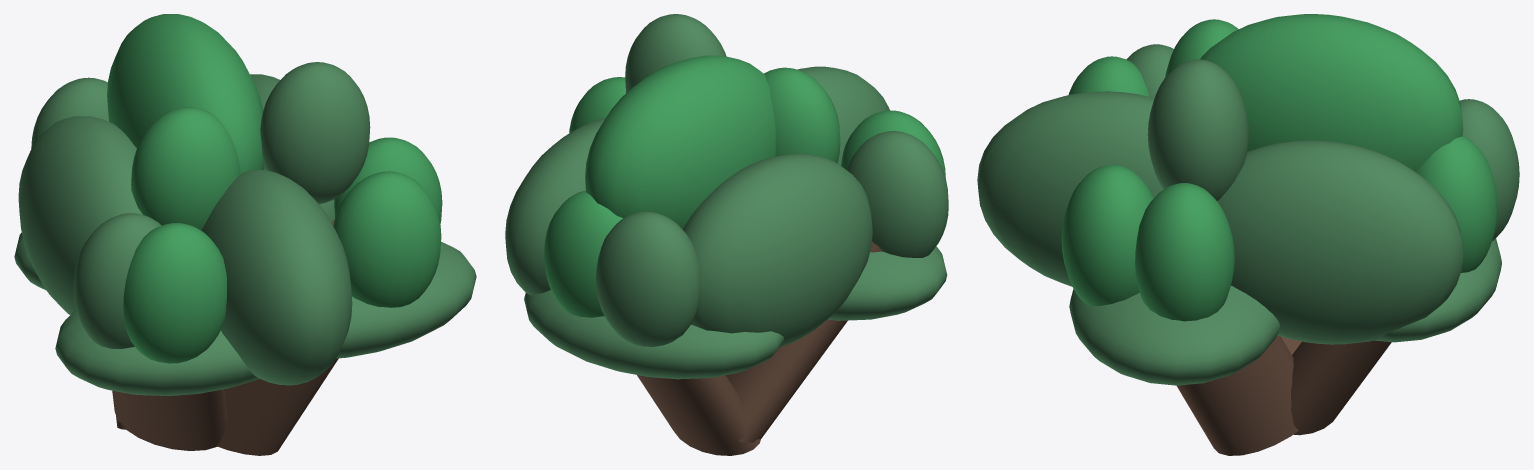
File: Bush 1 colored.fbx
The picture shows the model from 3 angles, left to right: view 1: azimuth 30°, elevation 25°; view 2: azimuth 150°, elevation 25°; view 3: azimuth 270°, elevation 25°; orthographic projection. The views are drawn at different scales.
Parts seen in each view (by area): view 1: Bush_3, Top_Bush, Bush_3_1, Bush_2_6, Bush_2_7, Bush_2_1, Bush_2_8, Bush_2_5, Bush_1, Branch_3, Branch_1__D1, Bush_2 (+2 smaller); view 2: Bush_2, Bush_3_1, Top_Bush, Bush_2_5, Bush_3, Bush_3_2, Branch_2, Branch_3, Bush_2_8, Bush_2_7, Bush_2_6, Bush_2_2; view 3: Bush_3_2, Top_Bush, Bush_3, Bush_2, Bush_1, Bush_2_2, Bush_2_7, Bush_2_1, Branch_1__D1, Branch_2, Bush_2_6, Bush_2_8 (+1 smaller).
Boxes of the visible parts, x1,y1,x2,y2 form: Bush_3: (55,170,352,395); Top_Bush: (107,14,264,173); Bush_3_1: (18,116,142,315); Bush_2_6: (123,223,226,363); Bush_2_7: (260,62,370,204); Bush_2_1: (333,171,441,307); Bush_2_8: (131,107,240,230); Bush_2_5: (73,213,161,348); Bush_1: (336,241,476,358); Branch_3: (112,389,227,450); Branch_1__D1: (216,219,338,455); Bush_2: (14,77,108,290); Bush_2: (524,190,784,379); Bush_3_1: (683,154,872,347); Top_Bush: (585,55,775,229); Bush_2_5: (846,131,948,257); Bush_3: (797,66,947,320); Bush_3_2: (505,117,605,295); Branch_2: (637,375,760,455); Branch_3: (726,242,882,442); Bush_2_8: (764,67,840,163); Bush_2_7: (625,14,726,92); Bush_2_6: (841,110,945,178); Bush_2_2: (569,77,625,132); Bush_3_2: (1217,140,1463,344); Top_Bush: (1200,14,1463,171); Bush_3: (977,91,1163,286); Bush_2: (1374,99,1519,342); Bush_1: (1069,285,1279,385); Bush_2_2: (1135,183,1234,321); Bush_2_7: (1147,59,1248,200); Bush_2_1: (1061,164,1153,306); Branch_1__D1: (1177,335,1298,455); Branch_2: (1291,340,1391,435); Bush_2_6: (1068,56,1148,96); Bush_2_8: (1165,19,1238,77).
Bounding box in the file's own units: 2.21 × 2.08 × 2.48.
